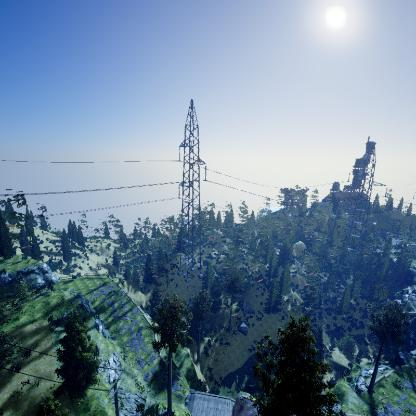tower: (339, 146, 393, 268), (177, 97, 208, 285)
